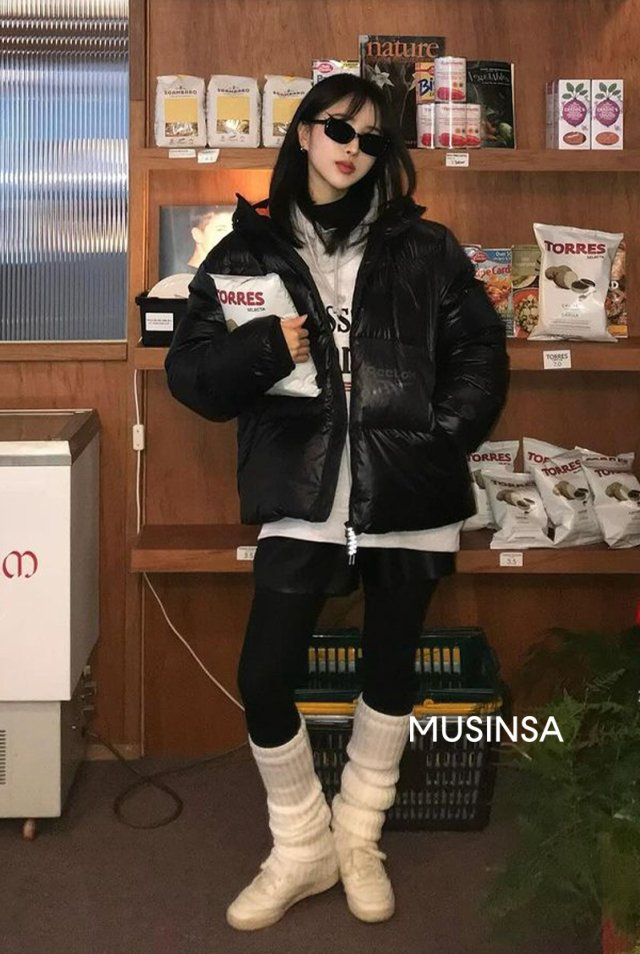Bubble jacket: (162, 194, 522, 541)
Glasses: (305, 112, 386, 160)
Shoes: (218, 838, 414, 936)
Skirt: (224, 527, 478, 603)
